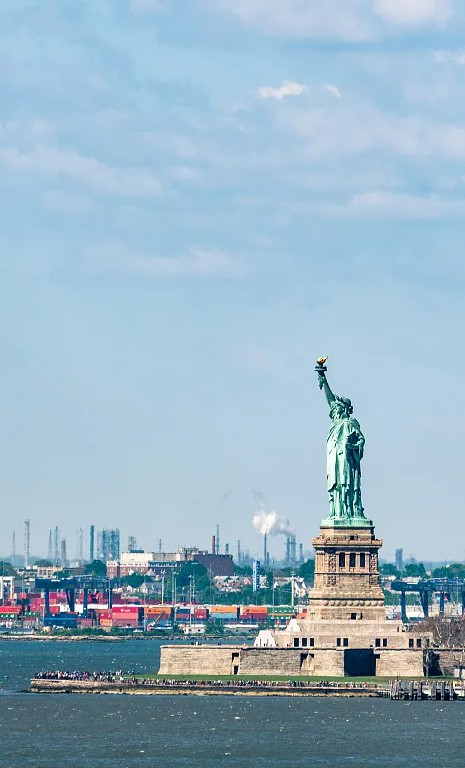SL: (307, 354, 387, 620)
